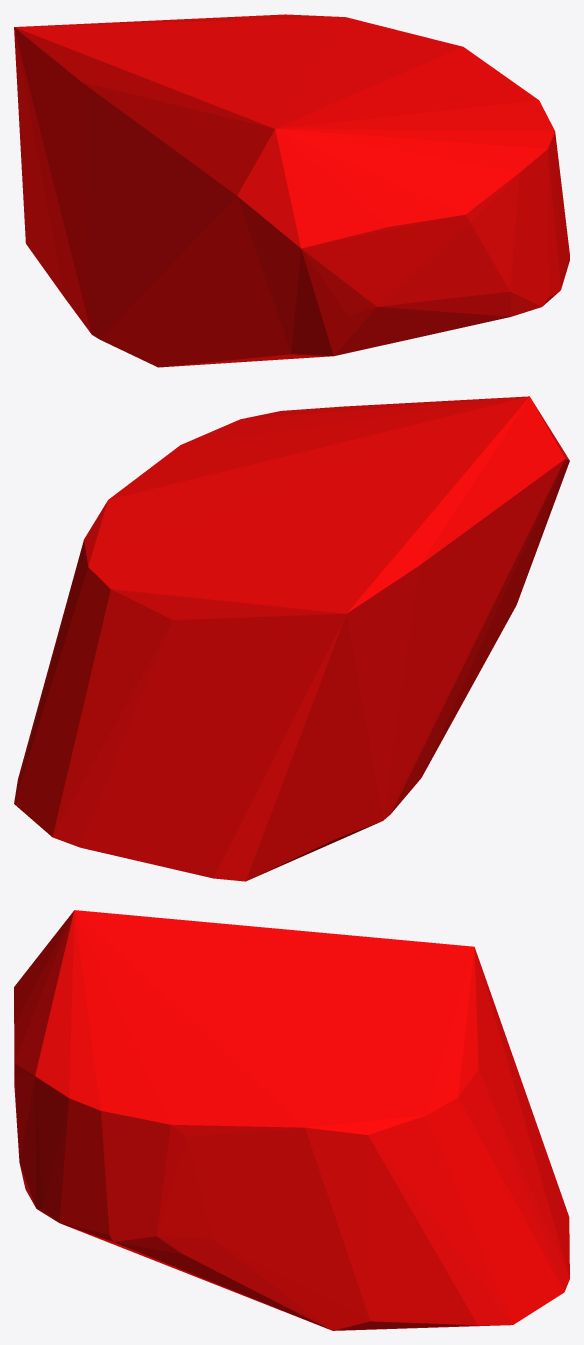
File: tip_006_2_convex_hull_05.obj
3 views of the same model, one above another, from view 1: azimuth 30°, elevation 25°; view 2: azimuth 150°, elevation 25°; view 3: azimuth 270°, elevation 25° (orthographic). The views are drawn at different scales.
Parts seen in each view (by area): view 1: tip_006_2_convex_hull_05; view 2: tip_006_2_convex_hull_05; view 3: tip_006_2_convex_hull_05.
Boxes of the visible parts, <box> form: tip_006_2_convex_hull_05: <box>14,14,569,367</box>; tip_006_2_convex_hull_05: <box>14,396,569,881</box>; tip_006_2_convex_hull_05: <box>14,910,569,1330</box>.
Size of the model in its own units: 0.00168 by 0.00139 by 0.00245.
